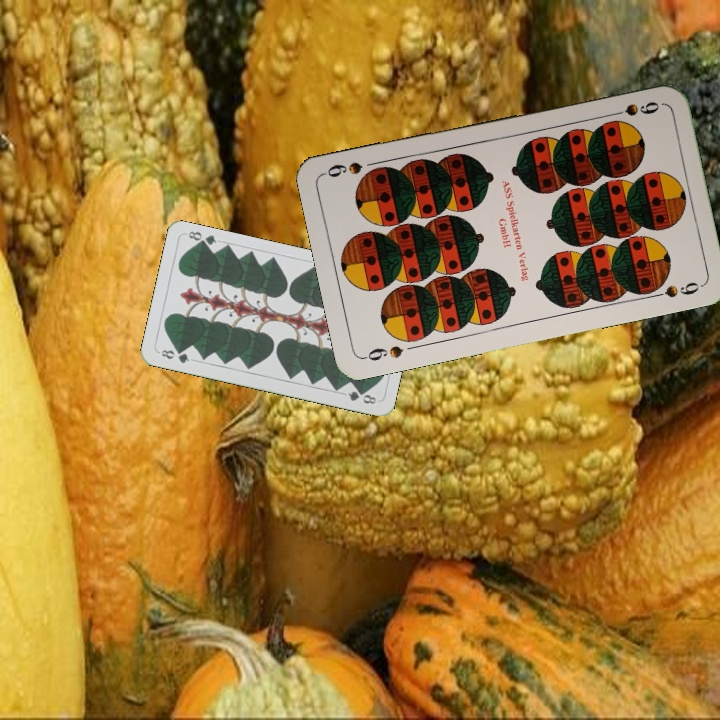G8: (155, 346, 192, 366)
S9: (604, 97, 662, 120), (359, 341, 406, 364)
